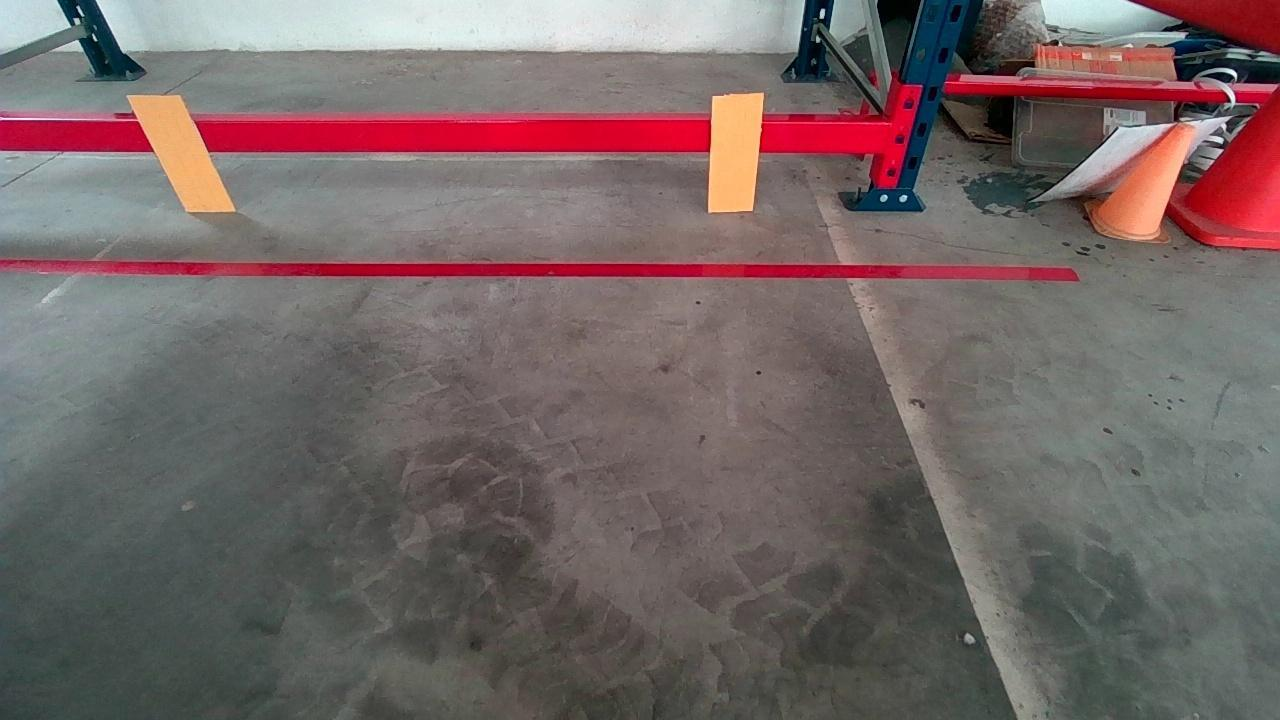h_rack: (0, 108, 880, 155)
orange_strip: (128, 95, 235, 211), (708, 95, 761, 212)
red_line: (9, 252, 1075, 285)
